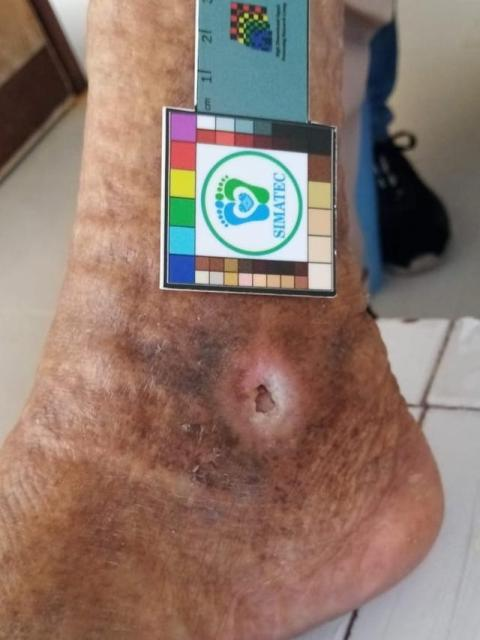wound: (251, 382, 281, 417)
